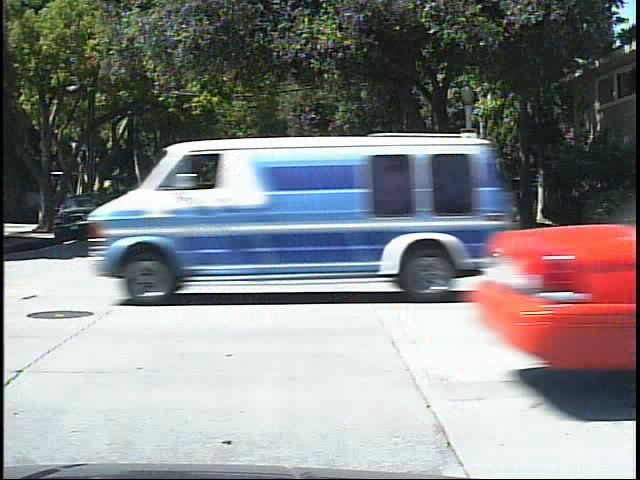car: (44, 131, 578, 323)
